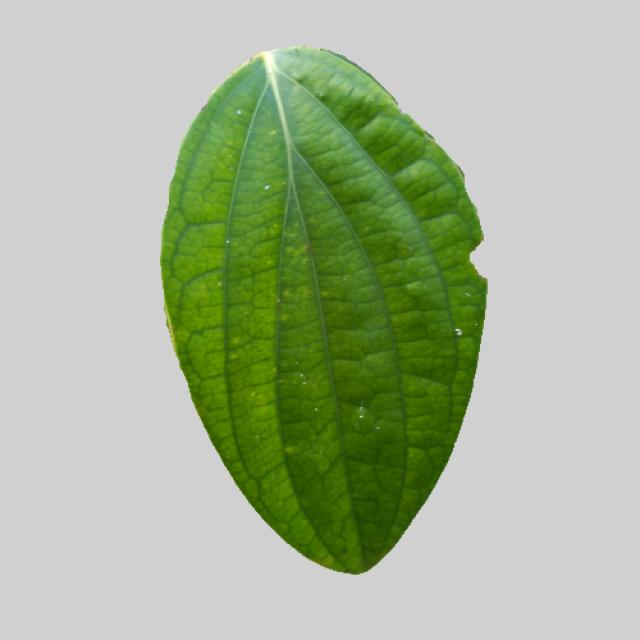healthy: (162, 45, 496, 588)
